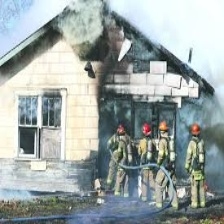smoke: (49, 1, 144, 35)
